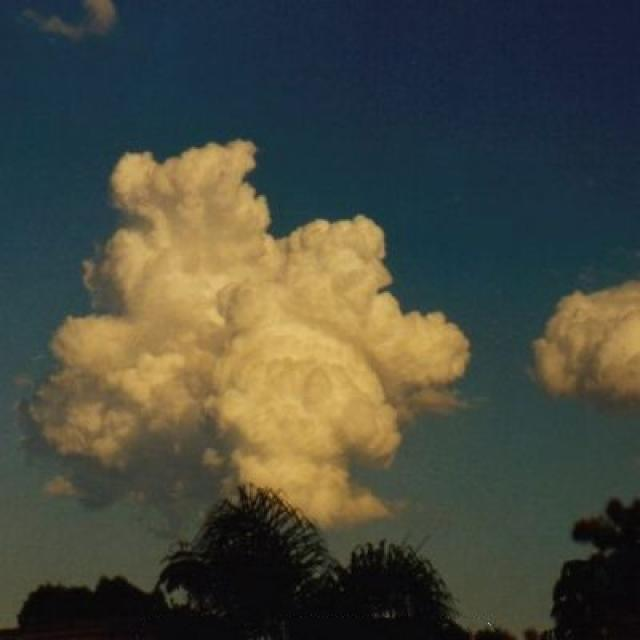Cu: (8, 105, 640, 450)
